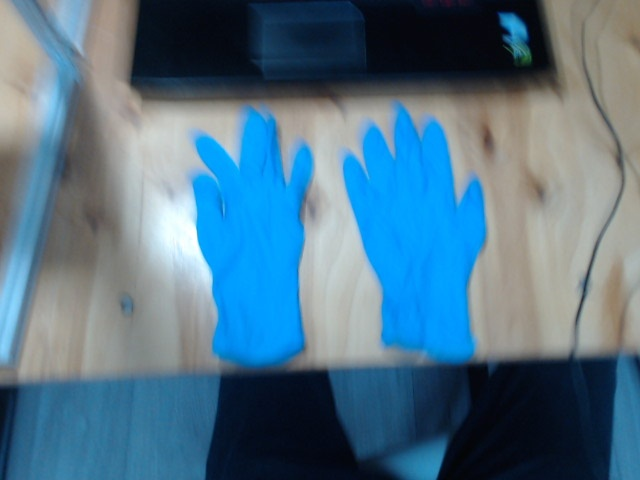medical_glove: (342, 111, 486, 365), (191, 110, 312, 366)
